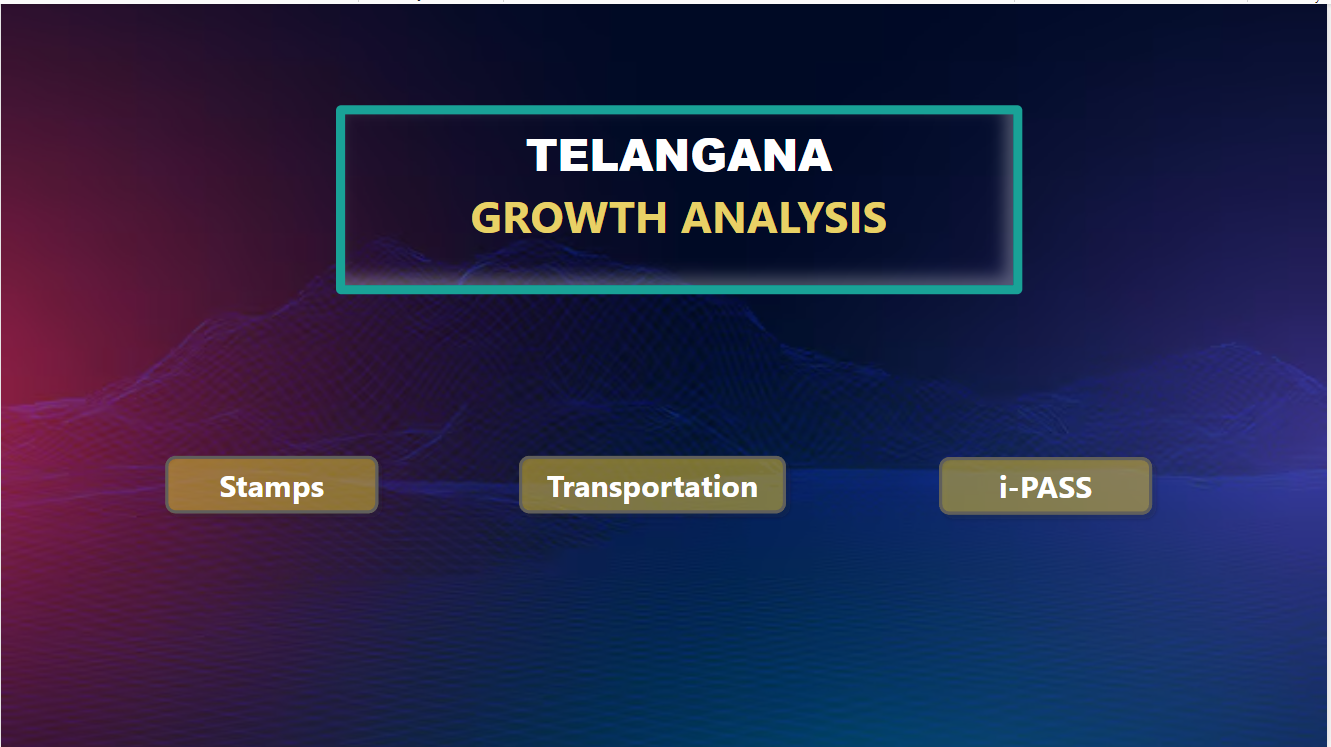

The page's visual inventory and layout, read from the dashboard file:
{"tool":"powerbi","page":{"name":"Home","canvas":[1280,720],"ordinal":0},"visuals":[{"type":"textbox","box":[323.3,97.7,662.3,182.2],"z":0},{"type":"actionButton","box":[150,427.1,223.6,73.6],"z":1000},{"type":"actionButton","box":[490.5,427.1,275.6,73.6],"z":2000},{"type":"actionButton","box":[896,428.5,223.6,73.6],"z":3000}]}

Visuals, with their boxes in screenshot pixels (x1, y1, x2, y2), scaled from the page's 1280x720 canvas onto the 1331x747 screenshot:
textbox: [x1=336, y1=101, x2=1025, y2=290]
actionButton: [x1=156, y1=443, x2=388, y2=519]
actionButton: [x1=510, y1=443, x2=797, y2=519]
actionButton: [x1=932, y1=445, x2=1164, y2=521]
